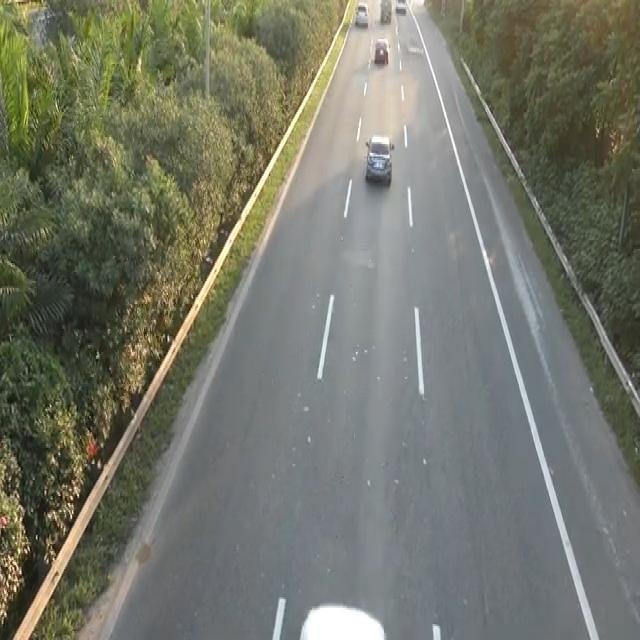bus: (362, 130, 397, 192)
